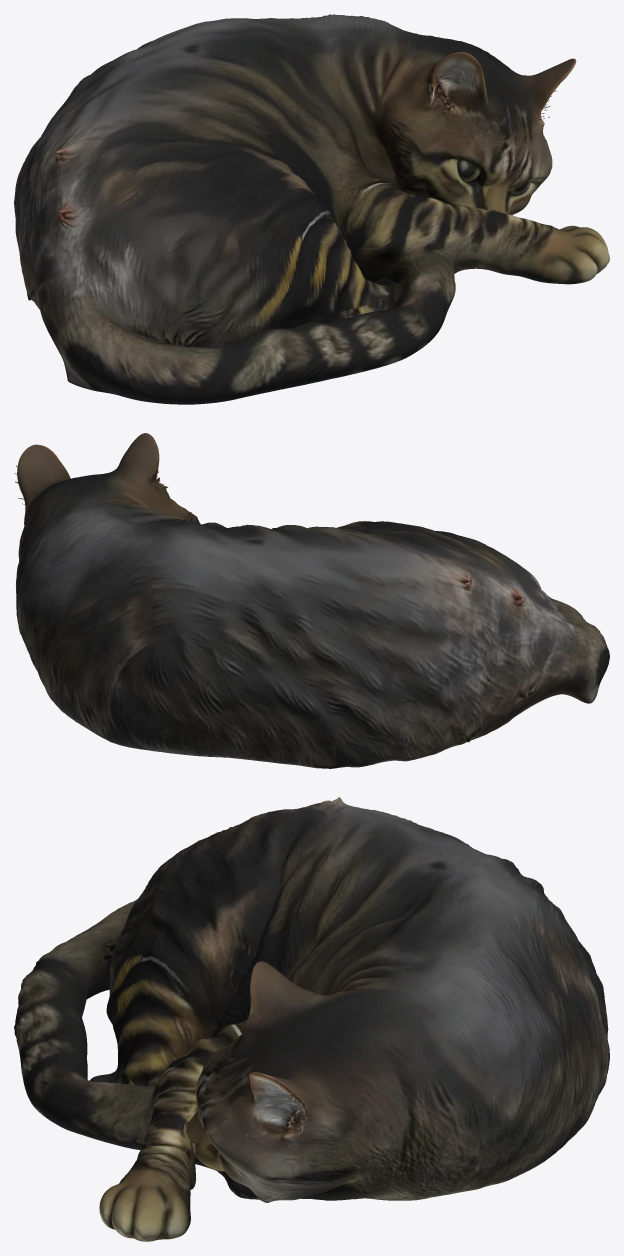
The model's file is Meshy_AI_Whiskered_Comfort_0121025914_texture.compressed.glb.
3 renders of one model, top to bottom at view 1: azimuth 30°, elevation 25°; view 2: azimuth 150°, elevation 25°; view 3: azimuth 270°, elevation 25°, orthographic. The views are drawn at different scales.
Bounding box in the file's own units: 1.9 × 0.6546 × 1.53.
1 material, 1 textured.
